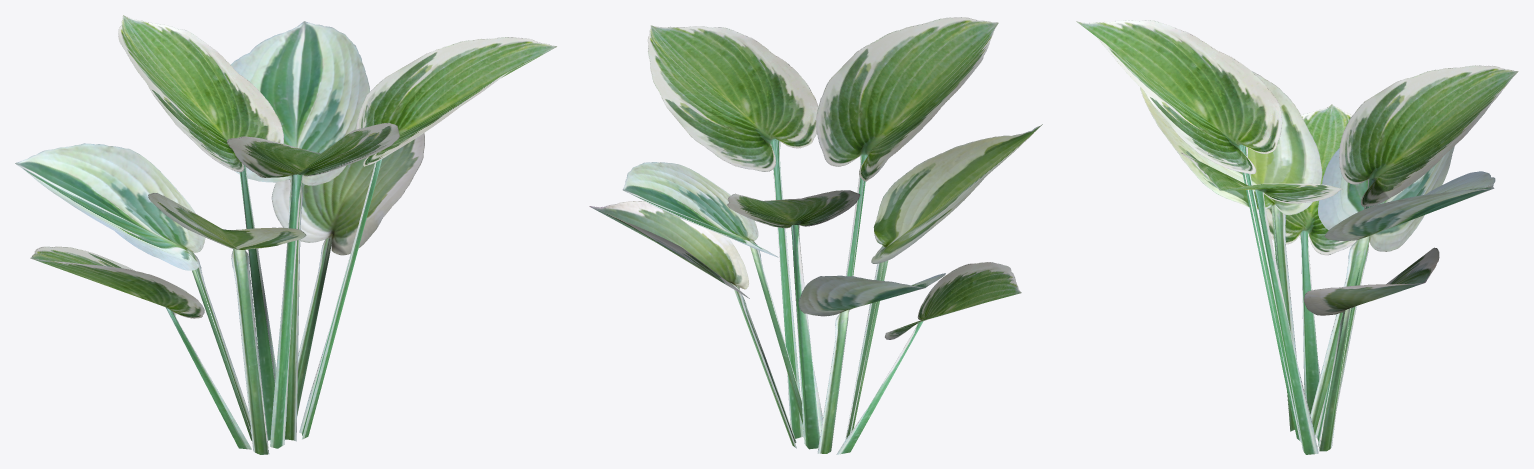
The model's file is plant_small_wg_00X_wild.fbx.
3 renders of one model, left to right at view 1: azimuth 30°, elevation 25°; view 2: azimuth 150°, elevation 25°; view 3: azimuth 270°, elevation 25°, orthographic. The views are drawn at different scales.
Parts seen in each view (by area): view 1: plant_small_wg_00X_wild; view 2: plant_small_wg_00X_wild; view 3: plant_small_wg_00X_wild.
Boxes of the visible parts, x1=… form: plant_small_wg_00X_wild: x1=15, y1=15, x2=556, y2=454; plant_small_wg_00X_wild: x1=589, y1=17, x2=1042, y2=454; plant_small_wg_00X_wild: x1=1076, y1=20, x2=1518, y2=454.
Bounding box in the file's own units: 60.18 × 49.19 × 50.94.
